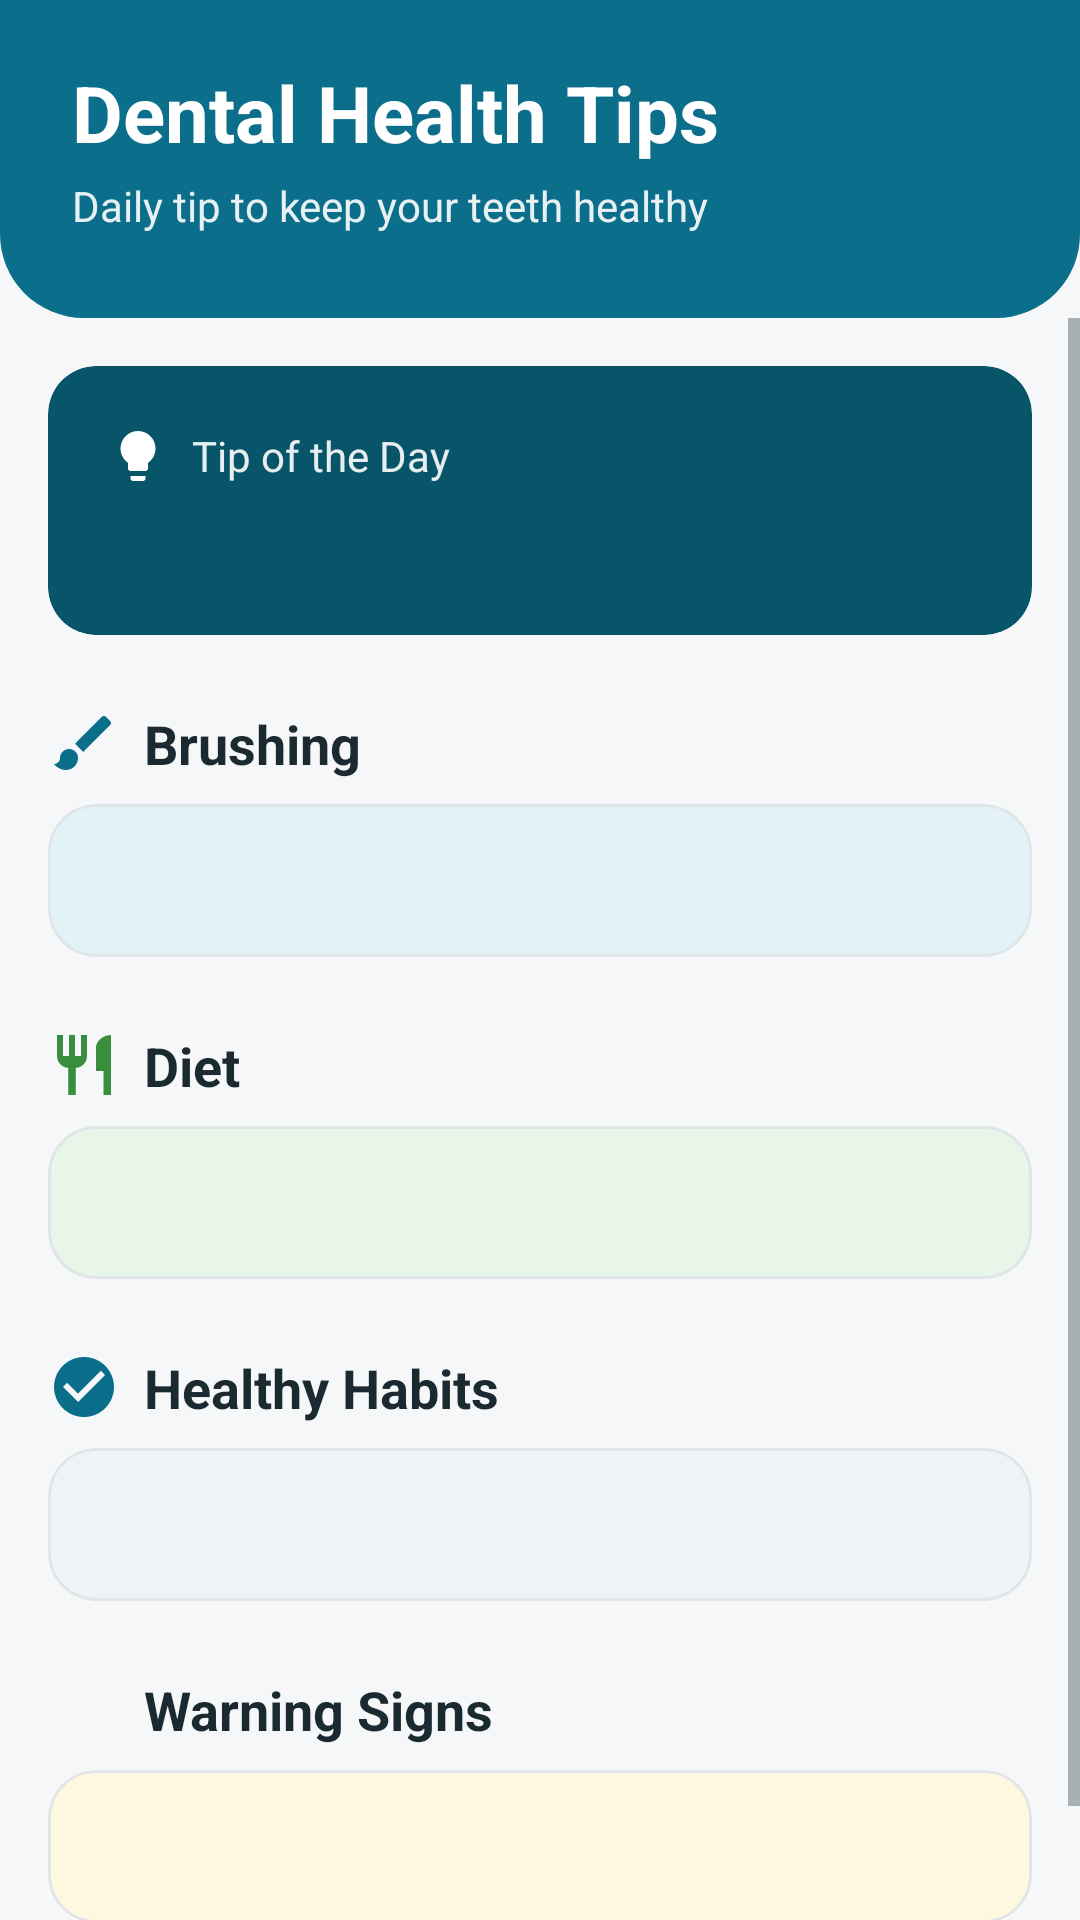

Icon click points for this 1080 × 1920 phone screenshot, format (x=x, y=y):
check circle: (x=84, y=1387)
lightbulb: (x=138, y=456)
restaurant: (x=84, y=1065)
